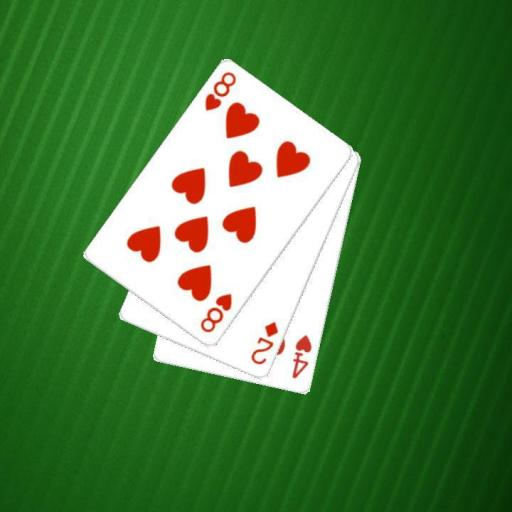card-corner: (201, 68, 238, 113), (197, 291, 234, 335), (248, 319, 280, 367), (288, 332, 314, 381)
